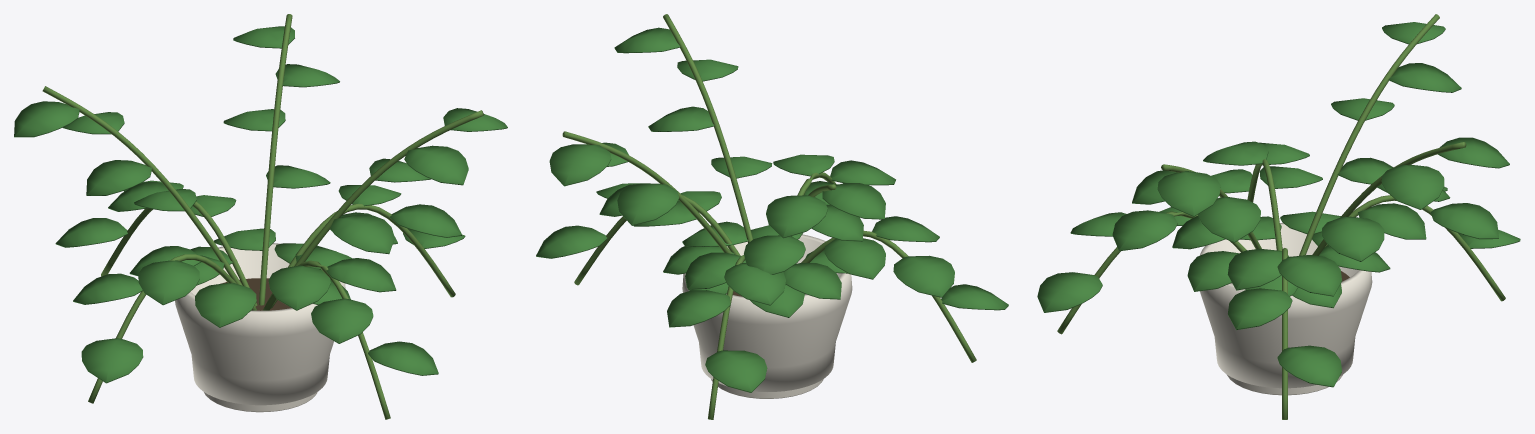
File: trailing-pothos.glb
The picture shows the model from 3 angles, left to right: view 1: azimuth 30°, elevation 25°; view 2: azimuth 150°, elevation 25°; view 3: azimuth 270°, elevation 25°; orthographic projection. The views are drawn at different scales.
Parts seen in each view (by area): view 1: Heart shaped pothos leaves, Plain ceramic planter, Trailing pothos vine.003, Trailing pothos vine.001, Trailing pothos vine.005, Trailing pothos vine, Trailing pothos vine.006, Trailing pothos vine.002, Trailing pothos vine.004, Planter foot, Soil surface; view 2: Heart shaped pothos leaves, Plain ceramic planter, Trailing pothos vine.005, Trailing pothos vine.003, Trailing pothos vine.004, Trailing pothos vine, Planter foot, Trailing pothos vine.006; view 3: Heart shaped pothos leaves, Plain ceramic planter, Trailing pothos vine.001, Trailing pothos vine.006, Trailing pothos vine.003, Trailing pothos vine.004, Trailing pothos vine, Planter foot, Trailing pothos vine.002.
Boxes of the visible parts, x1,y1,x2,y2 form: Heart shaped pothos leaves: (14, 26, 507, 383); Plain ceramic planter: (175, 243, 345, 405); Trailing pothos vine.003: (258, 14, 292, 305); Trailing pothos vine.001: (42, 86, 255, 307); Trailing pothos vine.005: (271, 110, 483, 308); Trailing pothos vine: (265, 204, 455, 304); Trailing pothos vine.006: (101, 201, 257, 305); Trailing pothos vine.002: (263, 260, 390, 419); Trailing pothos vine.004: (88, 254, 256, 403); Planter foot: (204, 392, 317, 412); Soil surface: (220, 278, 290, 310); Heart shaped pothos leaves: (536, 27, 1008, 392); Plain ceramic planter: (682, 234, 852, 391); Trailing pothos vine.005: (663, 14, 752, 243); Trailing pothos vine.003: (562, 131, 732, 253); Trailing pothos vine.004: (801, 230, 976, 362); Trailing pothos vine: (574, 195, 740, 285); Planter foot: (711, 379, 823, 398); Trailing pothos vine.006: (708, 255, 745, 419); Heart shaped pothos leaves: (1037, 22, 1520, 387); Plain ceramic planter: (1200, 223, 1372, 388); Trailing pothos vine.001: (1299, 14, 1439, 255); Trailing pothos vine.006: (1325, 195, 1505, 301); Trailing pothos vine.003: (1312, 142, 1466, 255); Trailing pothos vine.004: (1247, 159, 1282, 250); Trailing pothos vine: (1282, 248, 1287, 419); Planter foot: (1226, 374, 1342, 395); Trailing pothos vine.002: (1057, 211, 1246, 334).
Bounding box in the file's own units: 0.4801 × 0.3076 × 0.4703.
